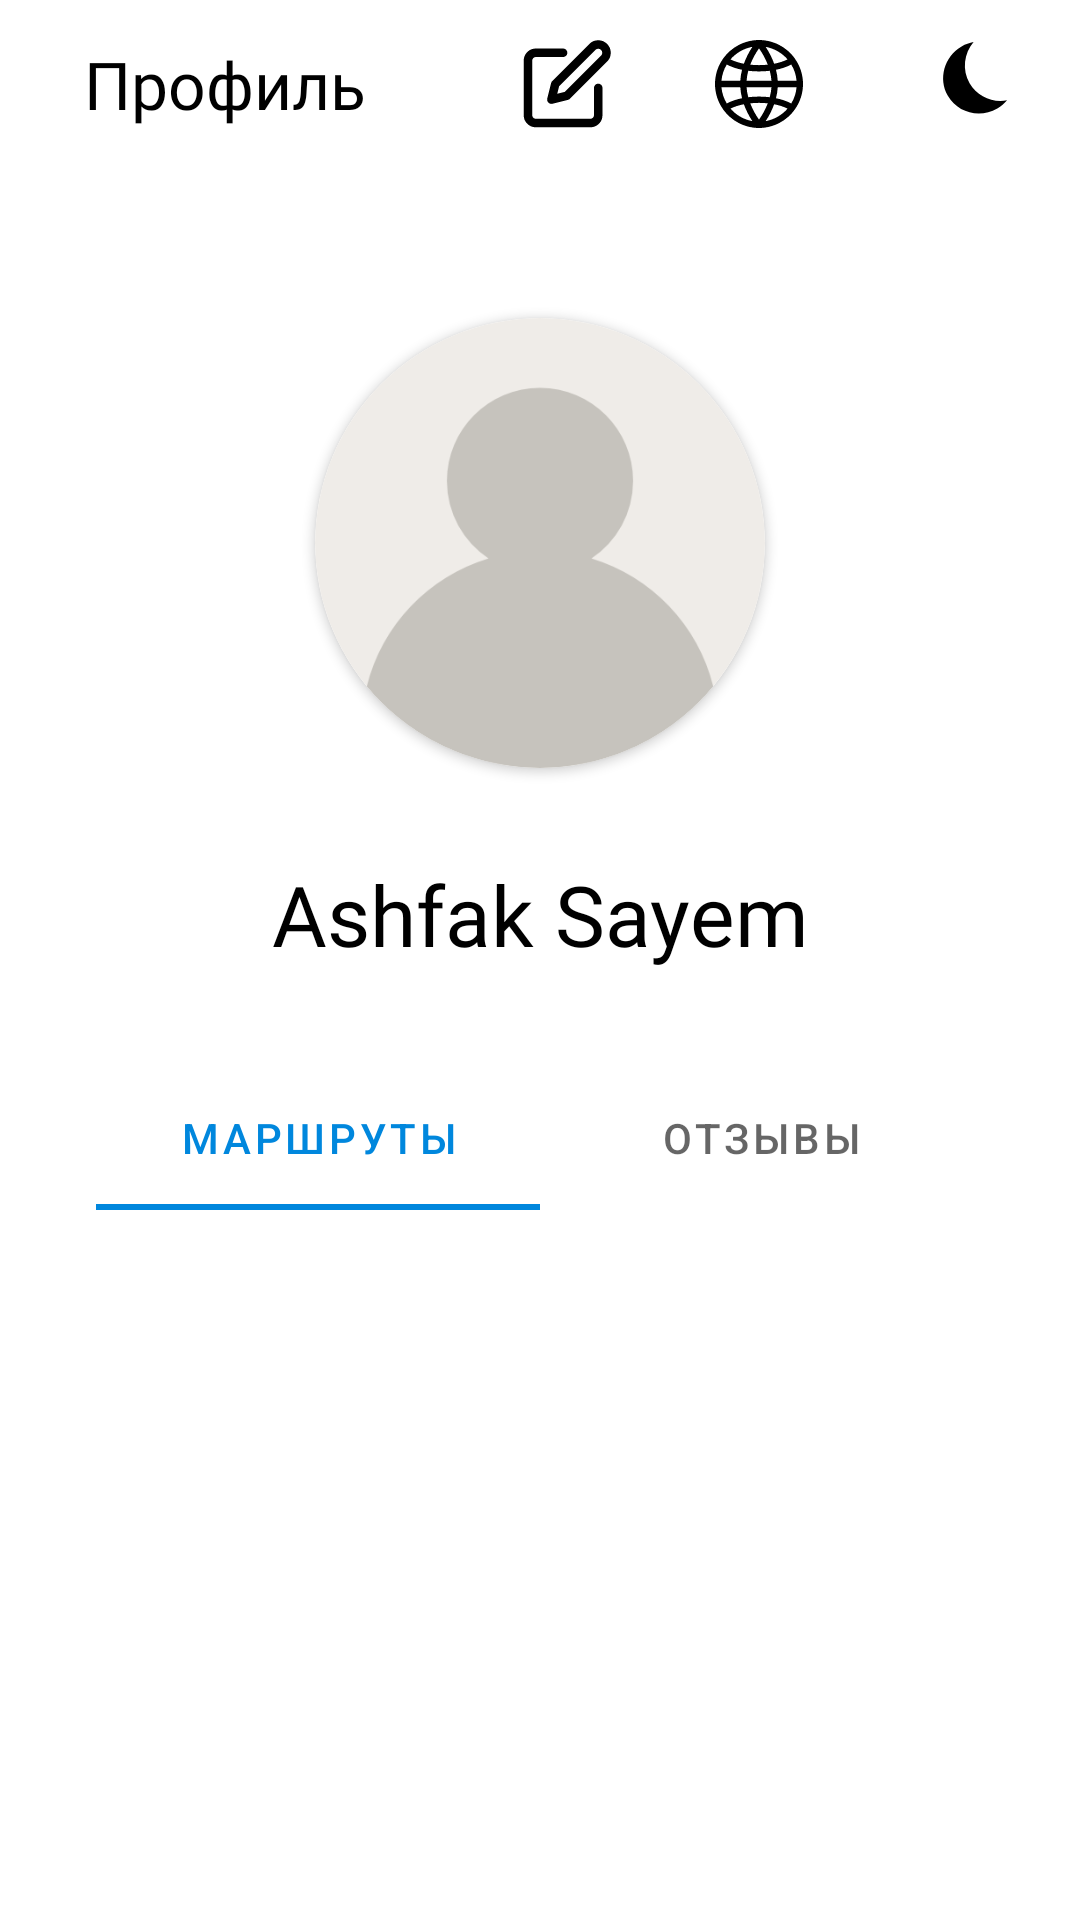

Locate icon controls on the screen. Image size 1080w x 1920h, boxes as [left=x1, top=y1, right=x2, bottom=y2].
edit: [left=523, top=40, right=611, bottom=128]
language: [left=715, top=40, right=803, bottom=128]
theme switch: [left=943, top=42, right=1007, bottom=114]
